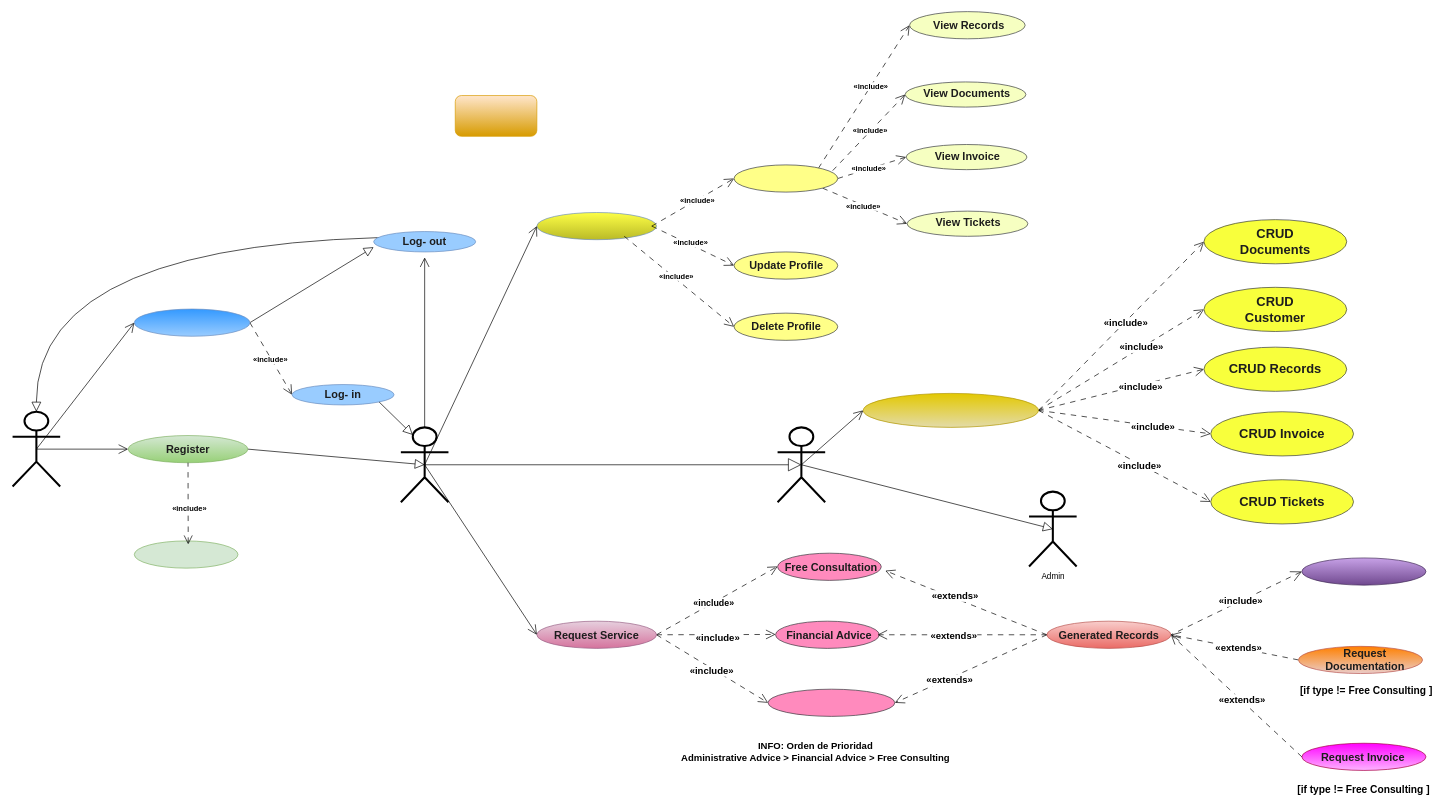
Some shapes in this 1446 by 811 pixel diagram are drawn without their labels. Each missing label, with the box of its shape:
Administrative Advice: (767, 688, 895, 716)
Authtentificated: (134, 308, 250, 336)
Customer: (400, 426, 449, 503)
Guest: (11, 410, 61, 487)
Manage: (776, 426, 826, 503)
Manage Data Customers: (863, 393, 1038, 427)
Manage Profile: (536, 212, 657, 240)
NEXTBASE: (455, 95, 537, 136)
Request Ticket: (1301, 557, 1426, 585)
Sign-Up: (134, 540, 238, 568)
View Profile: (733, 164, 838, 192)
